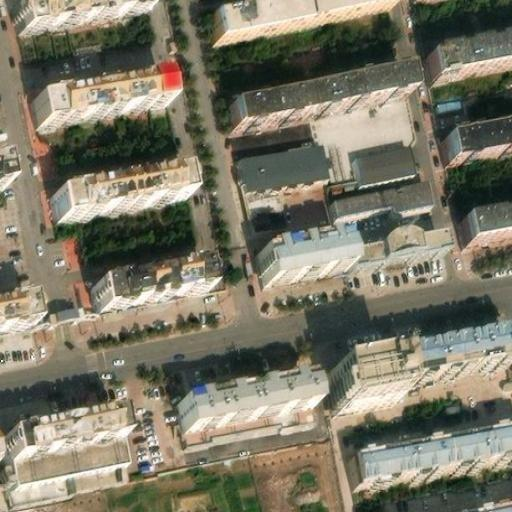building: (350, 421, 512, 485), (233, 71, 411, 127), (7, 408, 132, 477), (214, 0, 398, 40), (180, 367, 314, 421), (55, 166, 189, 214), (36, 72, 167, 121), (186, 397, 315, 444), (98, 261, 208, 311), (406, 322, 512, 373), (2, 411, 117, 458), (237, 136, 332, 182), (247, 235, 337, 283), (338, 224, 446, 264), (16, 0, 150, 30), (341, 337, 414, 392), (333, 173, 434, 211), (431, 37, 512, 77), (279, 185, 332, 235), (355, 138, 416, 179), (382, 494, 512, 512), (449, 124, 512, 161), (456, 209, 512, 242), (0, 296, 32, 332), (0, 149, 14, 188)
